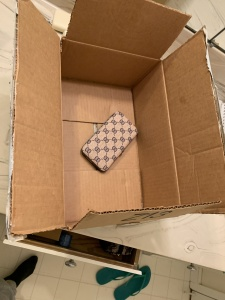innerbox: (64, 49, 166, 207)
outerbox: (16, 1, 225, 229)
product: (81, 110, 140, 172)
